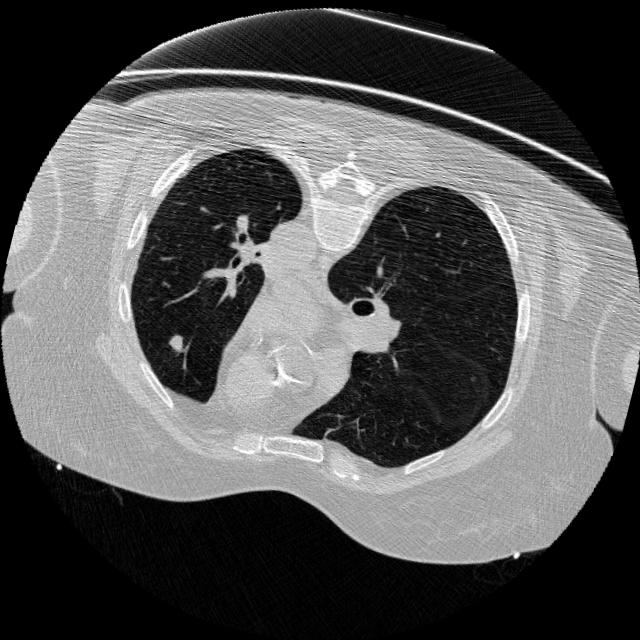nodule: (157, 324, 196, 363)
